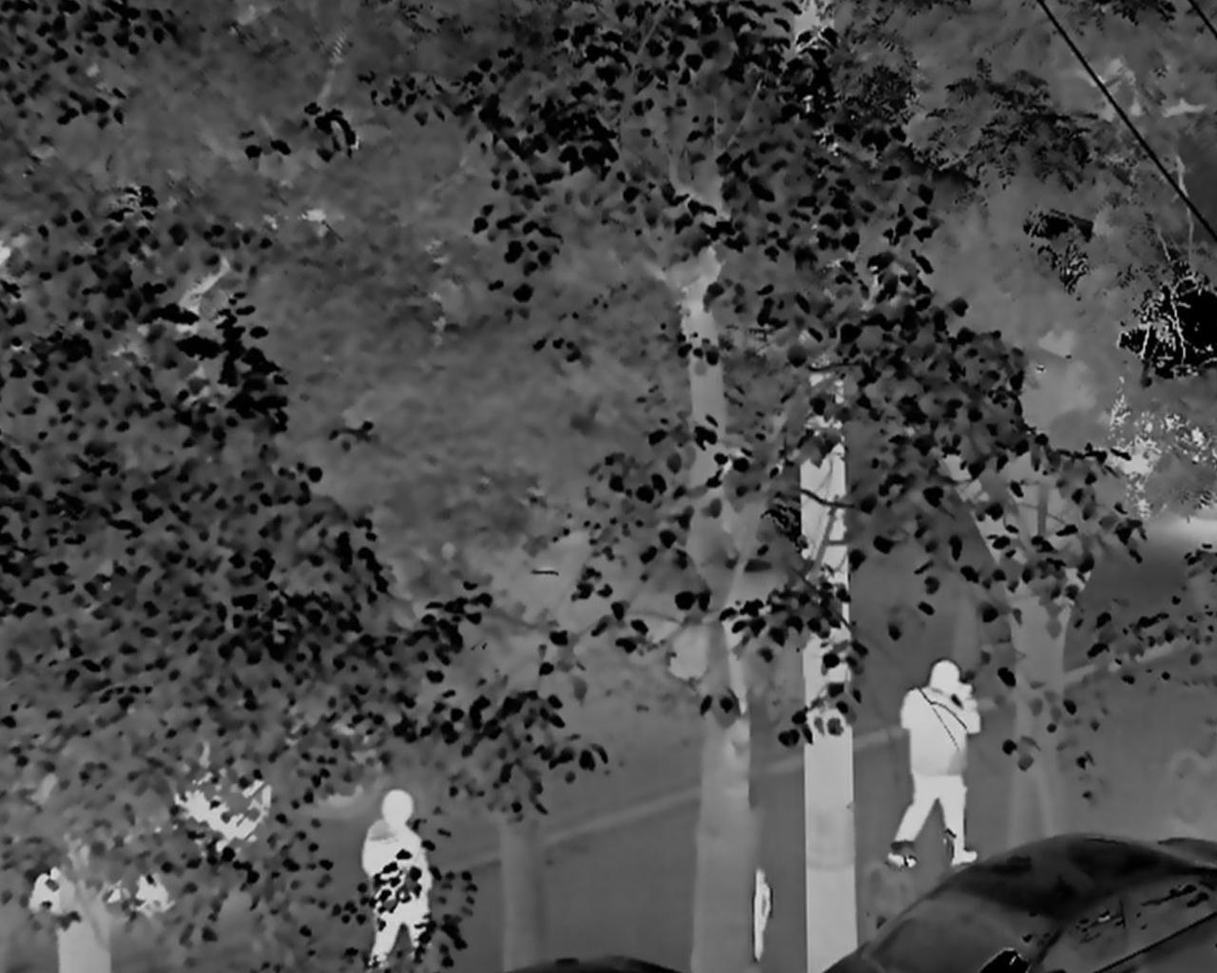person: (898, 661, 983, 871), (362, 790, 436, 973)
